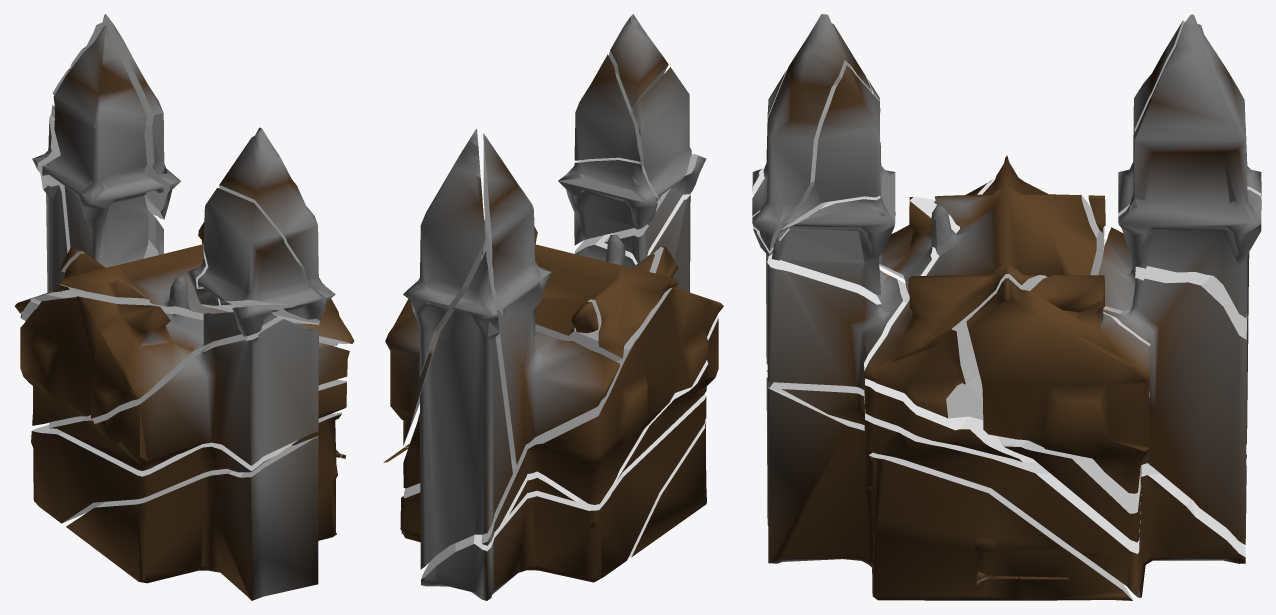
File: Medieval Houses.glb
3 views of the same model, side by side, from view 1: azimuth 30°, elevation 25°; view 2: azimuth 150°, elevation 25°; view 3: azimuth 270°, elevation 25° (orthographic). The views are drawn at different scales.
Parts seen in each view (by area): view 1: Root, Root.004, Root.006, Root.013, Root.008, Root.001, Root.016, Root.009, Root.010, Root.002, Root.014, Root.005; view 2: Root.002, Root.008, Root.013, Root.006, Root.016, Root.010, Root.004, Root.005, Root.001, Root.015, Root, Root.011 (+3 smaller); view 3: Root, Root.002, Root.011, Root.016, Root.010, Root.008, Root.004, Root.009, Root.005, Root.015, Root.006, Root.013 (+1 smaller).
Boxes of the visible parts, x1,y1,x2,y2 form: Root: (66, 412, 342, 600); Root.004: (48, 319, 349, 470); Root.006: (14, 24, 163, 320); Root.013: (20, 296, 203, 425); Root.008: (31, 380, 346, 523); Root.001: (198, 188, 324, 323); Root.016: (34, 244, 354, 350); Root.009: (219, 127, 335, 316); Root.010: (52, 14, 180, 219); Root.002: (32, 104, 163, 292); Root.014: (203, 306, 278, 345); Root.005: (187, 243, 318, 324); Root.002: (403, 251, 512, 569); Root.008: (400, 394, 706, 600); Root.013: (481, 246, 723, 545); Root.006: (480, 133, 619, 464); Root.016: (479, 226, 679, 361); Root.010: (403, 129, 485, 377); Root.004: (505, 193, 718, 515); Root.005: (558, 157, 657, 245); Root.001: (626, 67, 691, 201); Root.015: (574, 54, 640, 161); Root: (629, 422, 706, 557); Root.011: (385, 278, 448, 445); Root: (766, 377, 1132, 600); Root.002: (997, 128, 1261, 544); Root.011: (966, 275, 1150, 493); Root.016: (864, 155, 1104, 419); Root.010: (1118, 14, 1261, 318); Root.008: (766, 370, 1246, 597); Root.004: (766, 253, 1037, 462); Root.009: (752, 14, 872, 251); Root.005: (771, 142, 895, 295); Root.015: (783, 65, 880, 226); Root.006: (1098, 20, 1184, 314); Root.013: (879, 179, 1246, 458).
Size of the model in its own units: 11.26 by 17.63 by 15.3.
